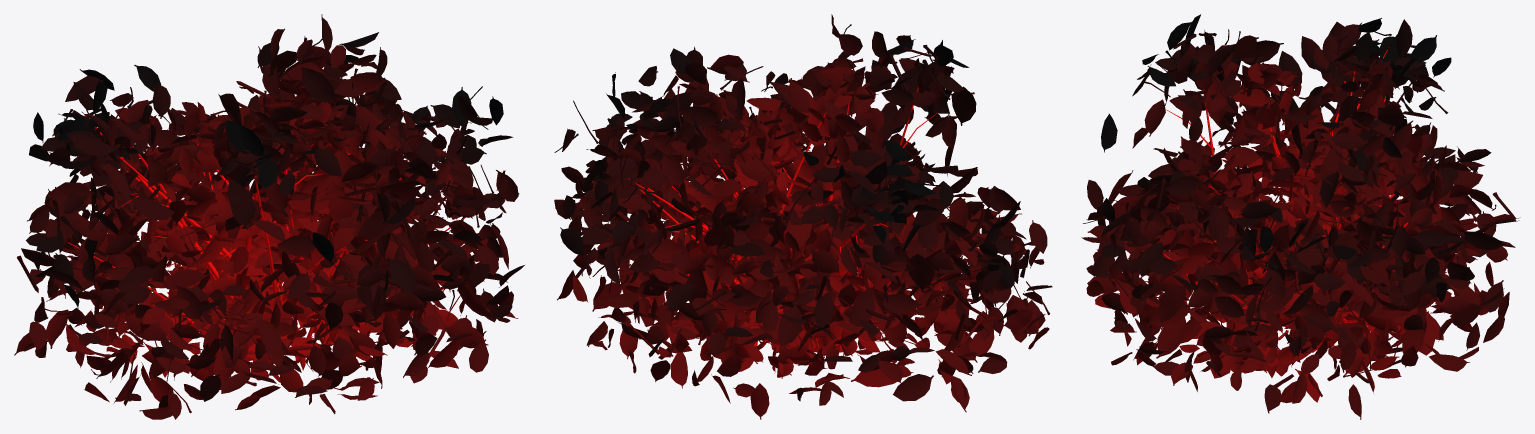
The model's file is SM_ShrubBroadleaf_02.fbx.
3 views of the same model, side by side, from view 1: azimuth 30°, elevation 25°; view 2: azimuth 150°, elevation 25°; view 3: azimuth 270°, elevation 25° (orthographic). The views are drawn at different scales.
Visible parts, largest first — view 1: SM_ShrubBroadleaf_02; view 2: SM_ShrubBroadleaf_02; view 3: SM_ShrubBroadleaf_02.
Boxes of the visible parts, <box> form: SM_ShrubBroadleaf_02: <box>14,14,524,419</box>; SM_ShrubBroadleaf_02: <box>554,14,1052,419</box>; SM_ShrubBroadleaf_02: <box>1081,14,1520,419</box>.
Size of what is drawn, in the model's own units: 174 by 150 by 110.
